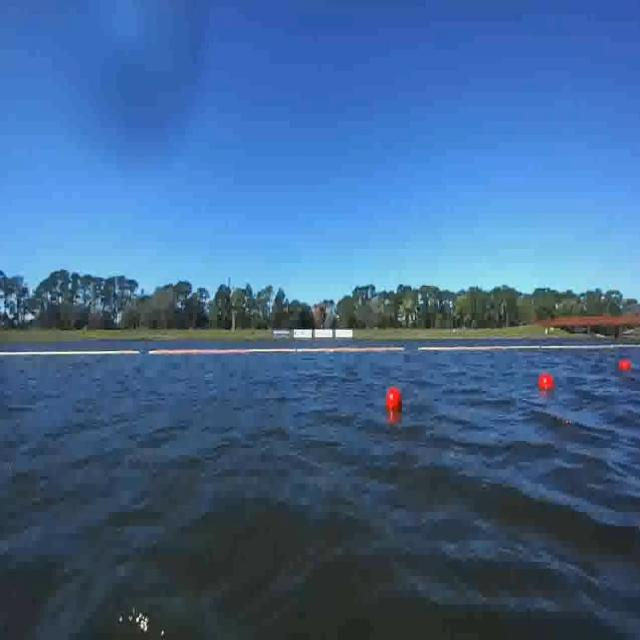red-buoy: (385, 386, 399, 409), (540, 372, 556, 390), (619, 360, 632, 370)
